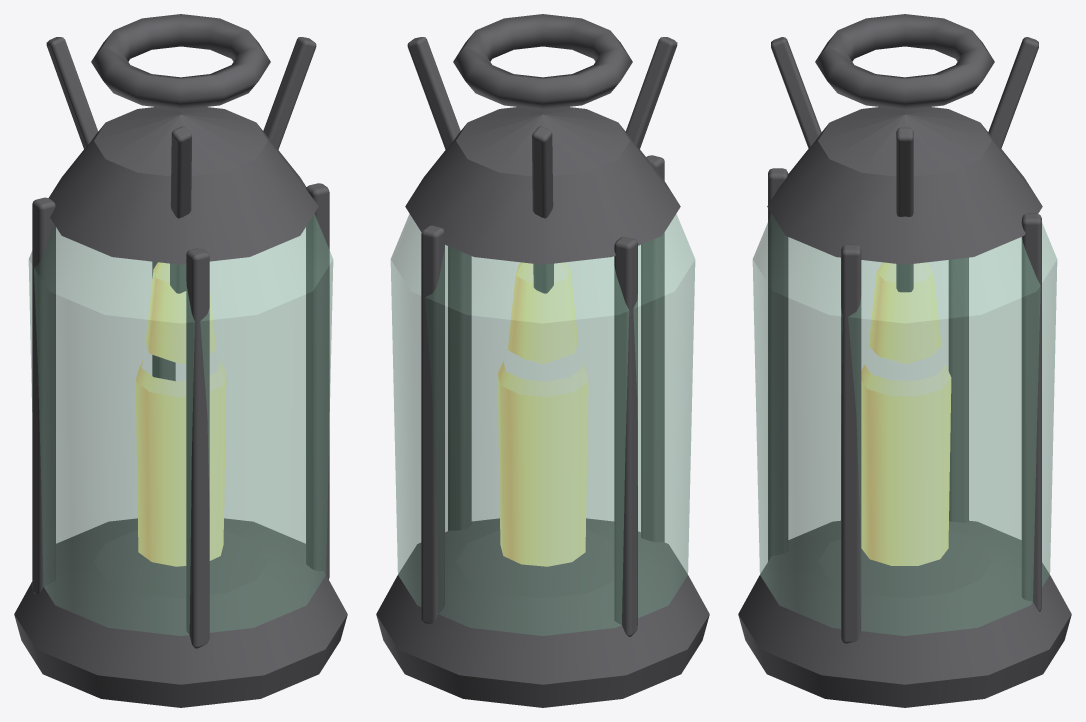
The model's file is witch-cottage-and-apothecary-hanging-lantern-57e97573__32455.glb.
3 renders of one model, left to right at view 1: azimuth 30°, elevation 25°; view 2: azimuth 150°, elevation 25°; view 3: azimuth 270°, elevation 25°, orthographic.
Visible parts, largest first — view 1: hanging-lantern; view 2: hanging-lantern; view 3: hanging-lantern.
Part boxes in pixels (left/top/right/bottom): hanging-lantern: left=14, top=14, right=347, bottom=707; hanging-lantern: left=376, top=14, right=709, bottom=707; hanging-lantern: left=738, top=14, right=1071, bottom=707.
Bounding box in the file's own units: 0.23 × 0.4514 × 0.23.
